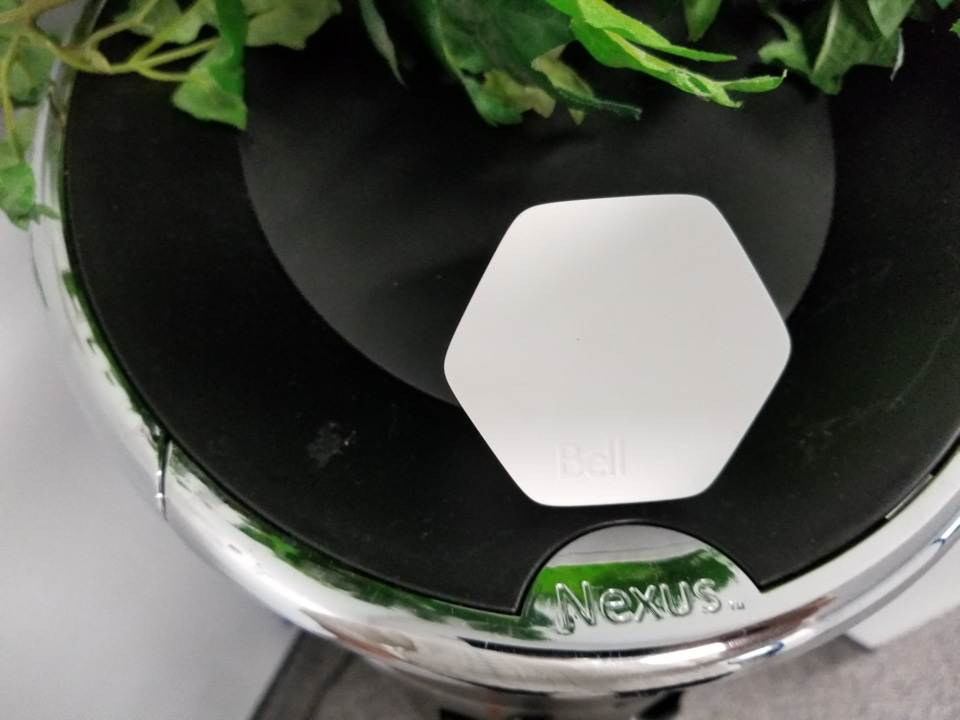pod: (437, 182, 803, 513)
